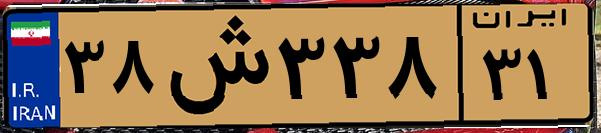1: (525, 38, 570, 115)
3: (270, 28, 330, 110), (330, 28, 385, 110), (57, 26, 110, 100), (475, 38, 525, 113)
8: (385, 28, 445, 110), (110, 28, 158, 98)
ش: (158, 12, 270, 120)
